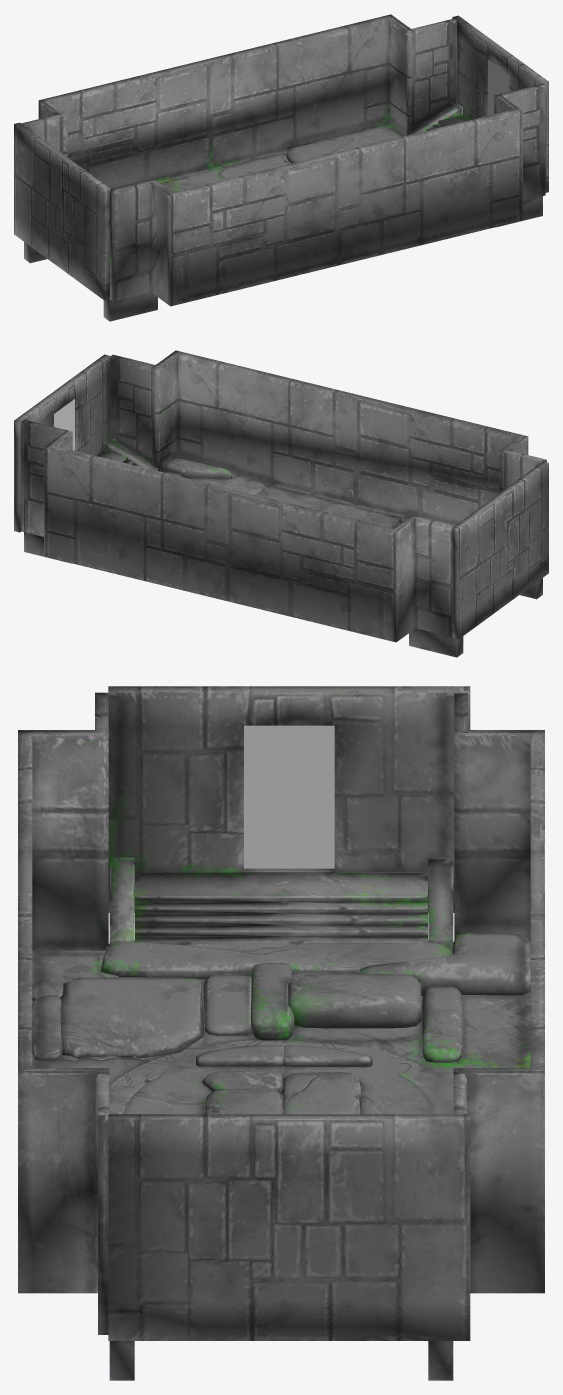
File: TEMPLE_MOD 1.fbx
3 renders of one model, top to bottom at view 1: azimuth 30°, elevation 25°; view 2: azimuth 150°, elevation 25°; view 3: azimuth 270°, elevation 25°, orthographic. The views are drawn at different scales.
Parts seen in each view (by area): view 1: ARO.002; view 2: ARO.002; view 3: ARO.002.
Part boxes in pixels (x1=…): ARO.002: x1=14, y1=14, x2=548, y2=321; ARO.002: x1=14, y1=350, x2=548, y2=657; ARO.002: x1=18, y1=686, x2=544, y2=1380.
Bounding box in the file's own units: 1516 × 433 × 779.
